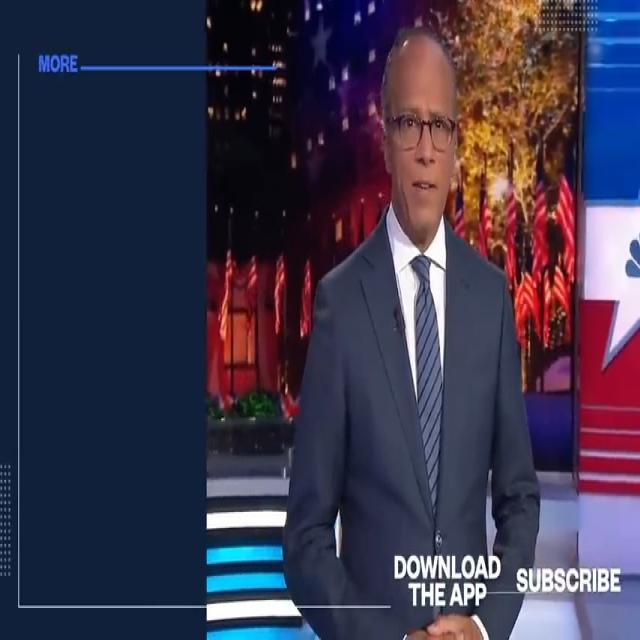non-fight: (276, 18, 548, 640)
